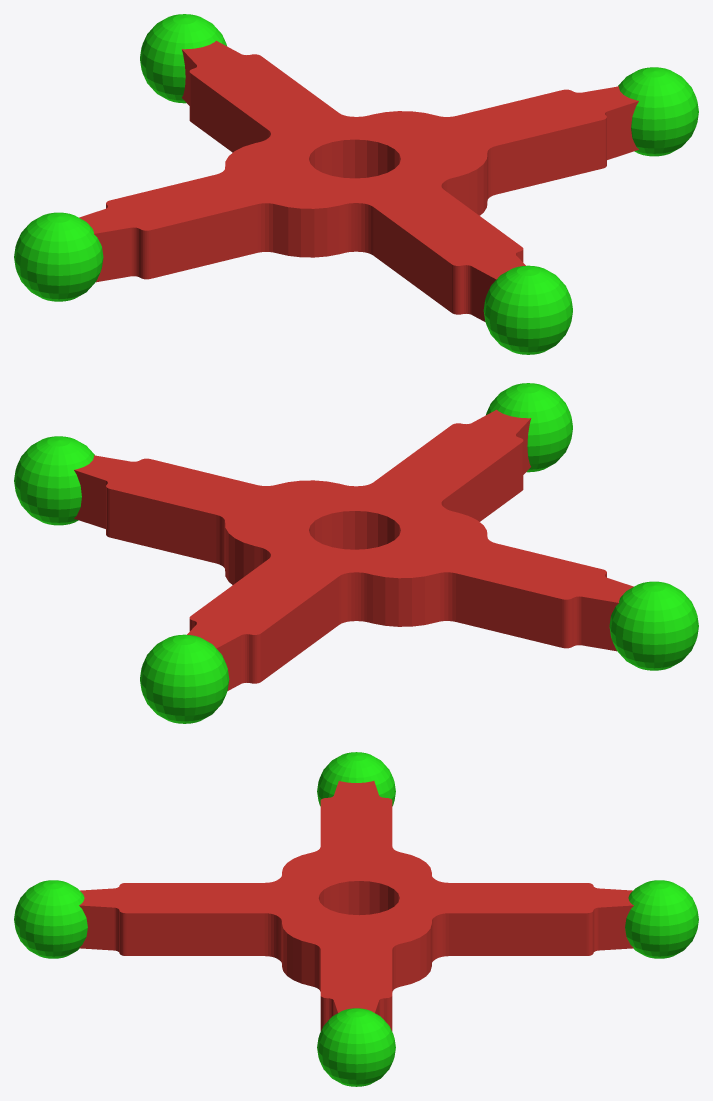
File: star4u.fbx
3 views of the same model, one above another, from view 1: azimuth 30°, elevation 25°; view 2: azimuth 150°, elevation 25°; view 3: azimuth 270°, elevation 25° (orthographic). The views are drawn at different scales.
Visible parts, largest first — view 1: star_4_u, c3, c4, c1, c0; view 2: star_4_u, c0, c4, c1, c3; view 3: star_4_u, c1, c3, c0, c4.
Part boxes in pixels (x1,y1,x2,y2): star_4_u: [79, 40, 638, 321]; c3: [483, 265, 572, 354]; c4: [14, 212, 103, 301]; c1: [618, 67, 698, 156]; c0: [140, 14, 226, 103]; star_4_u: [74, 409, 633, 690]; c0: [140, 634, 229, 723]; c4: [609, 581, 698, 670]; c1: [14, 436, 94, 525]; c3: [486, 383, 572, 472]; star_4_u: [79, 781, 633, 1031]; c1: [317, 1008, 395, 1086]; c3: [14, 880, 87, 958]; c0: [625, 880, 698, 958]; c4: [317, 752, 395, 806].
Size of the model in its own units: 43.4 by 5 by 43.4.
